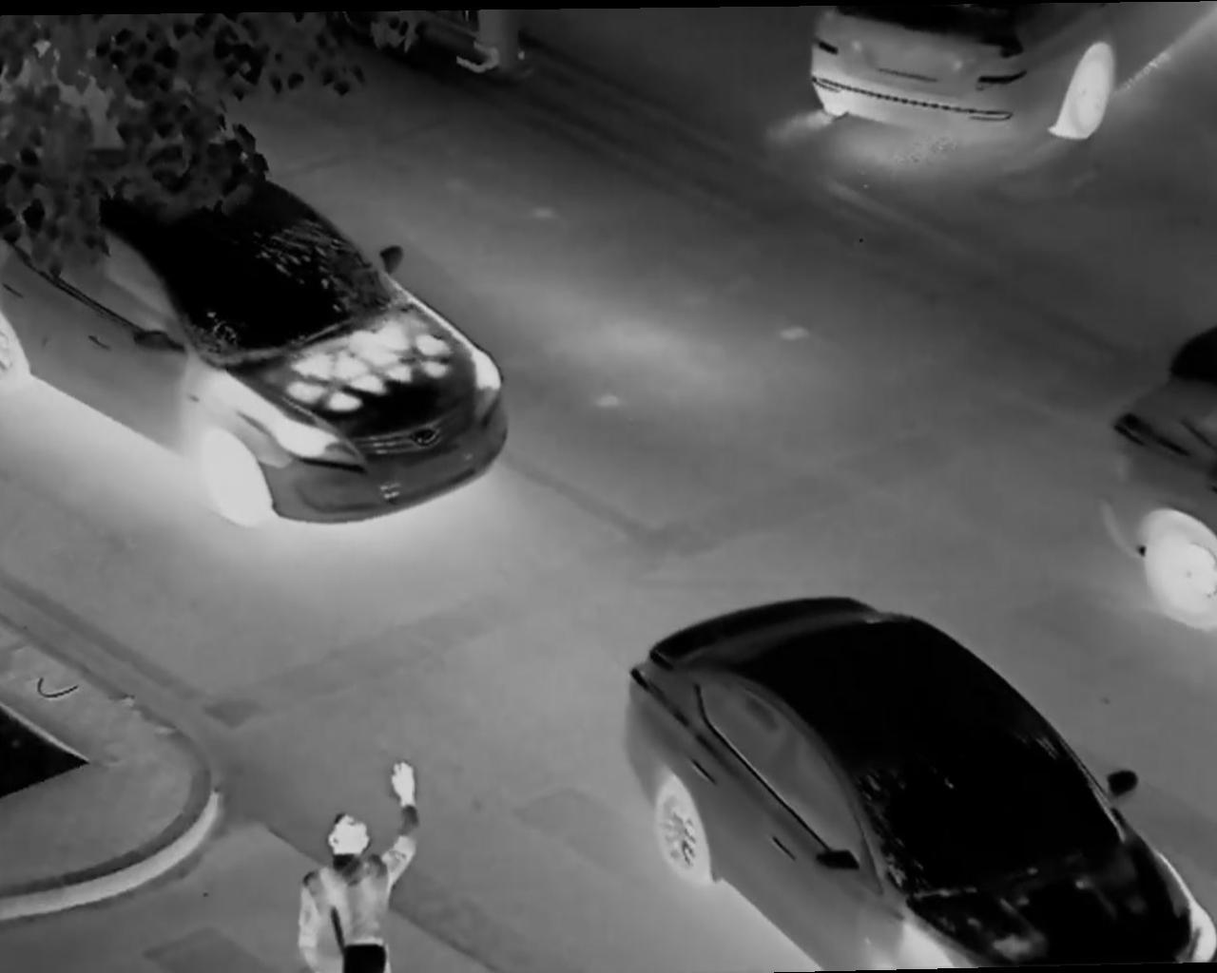person: (295, 754, 419, 973)
